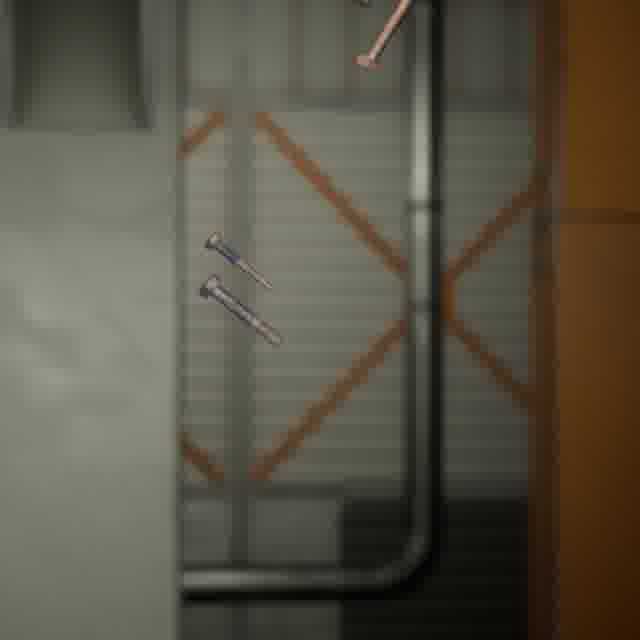bolt: (194, 268, 288, 352), (199, 226, 283, 299), (350, 0, 419, 77)
